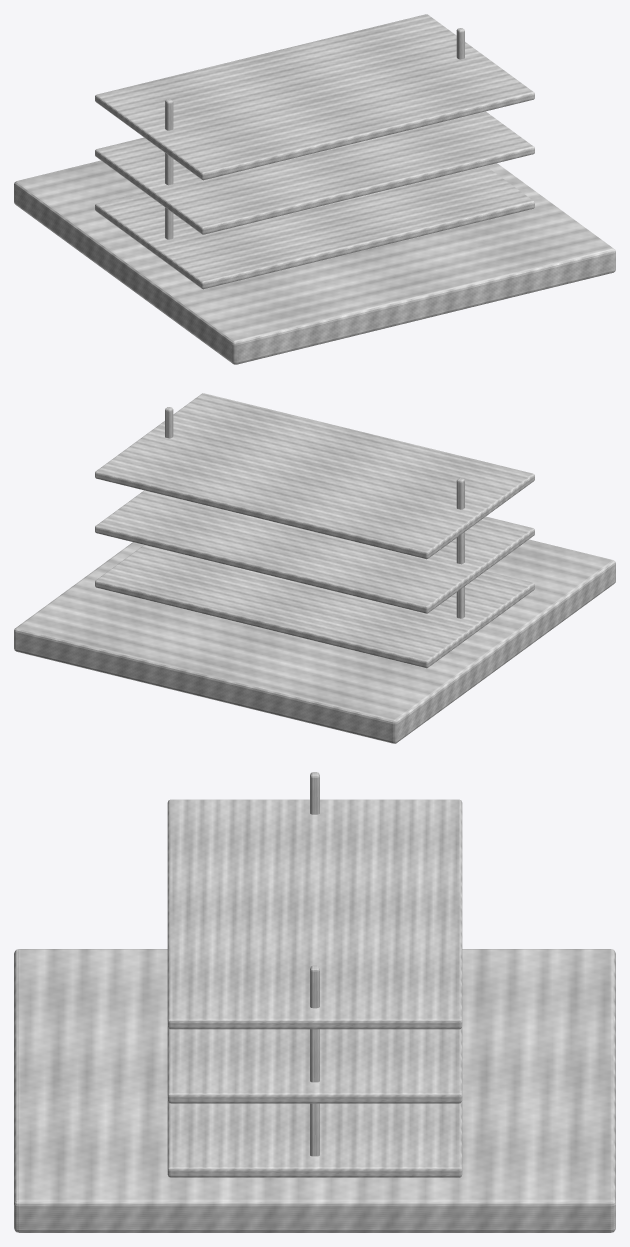
Rendered from basic-shelf-unit_variant_b.glb.
3 renders of one model, top to bottom at view 1: azimuth 30°, elevation 25°; view 2: azimuth 150°, elevation 25°; view 3: azimuth 270°, elevation 25°, orthographic. The views are drawn at different scales.
Visible parts, largest first — view 1: Foundation.001, Shelf deck.005, Shelf deck.003, Shelf deck.004, Shelf upright.002; view 2: Foundation.001, Shelf deck.005, Shelf deck.003, Shelf deck.004, Shelf upright.002; view 3: Foundation.001, Shelf deck.005, Shelf deck.003, Shelf deck.004, Shelf upright.003.
Boxes of the visible parts, x1,y1,x2,y2 form: Foundation.001: (14,160,615,364); Shelf deck.005: (95,14,534,180); Shelf deck.003: (95,166,534,289); Shelf deck.004: (95,111,534,234); Shelf upright.002: (165,99,173,239); Foundation.001: (14,539,615,743); Shelf deck.005: (95,393,534,559); Shelf deck.003: (95,545,534,668); Shelf deck.004: (95,490,534,613); Shelf upright.002: (456,478,464,618); Foundation.001: (14,949,615,1232); Shelf deck.005: (167,799,462,1029); Shelf deck.003: (167,1101,462,1177); Shelf deck.004: (167,1027,462,1103); Shelf upright.003: (310,965,319,1156).
Size of what is drawn, in the model's own units: 7.36 by 3.2 by 7.36.
Materials: 3 (3 with a texture image).
